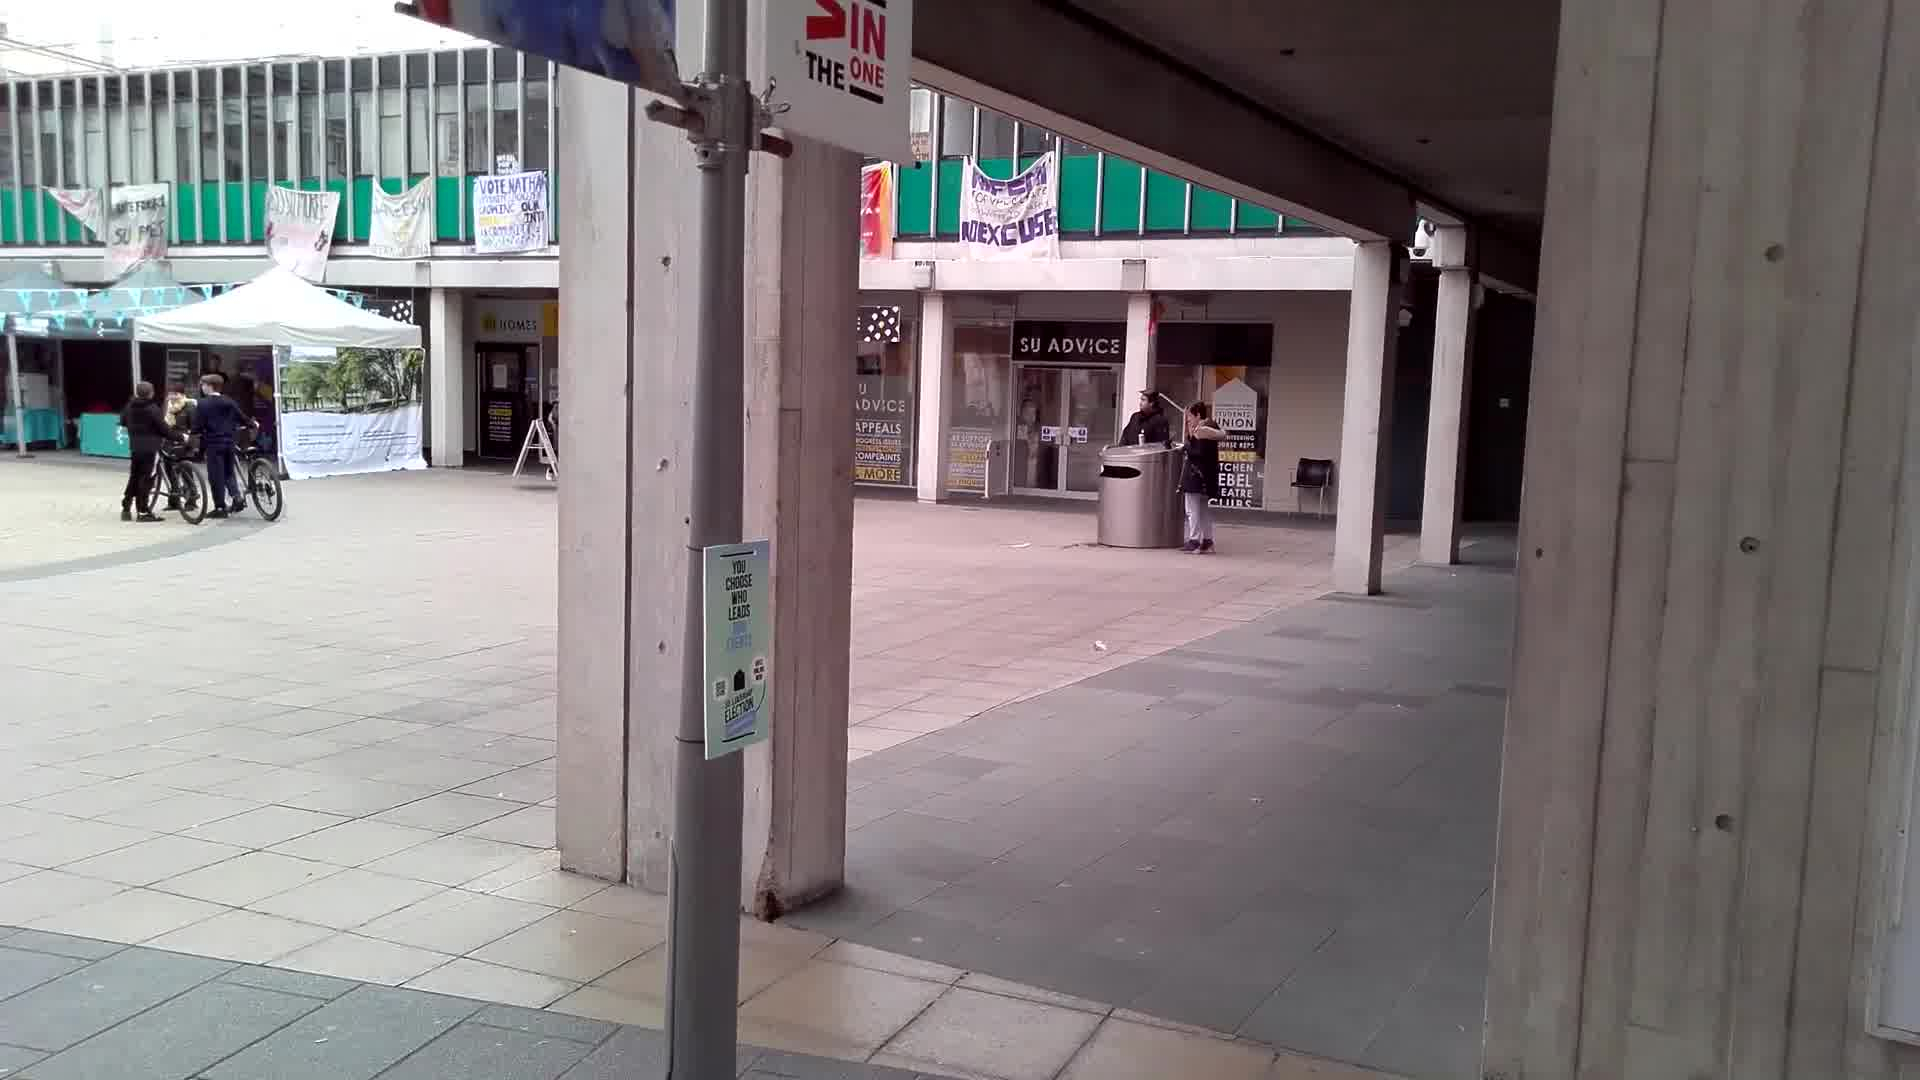Bin: (1101, 443, 1178, 549)
Person: (1174, 398, 1225, 559), (196, 371, 244, 522), (121, 377, 170, 522), (1128, 390, 1168, 446)
